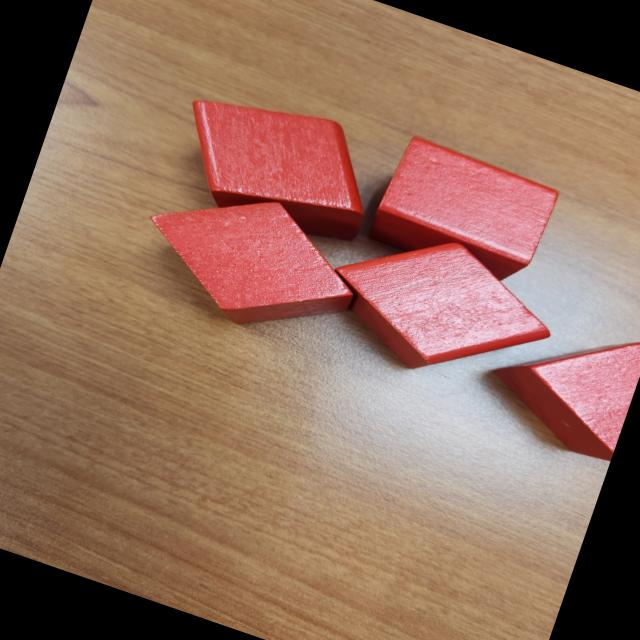red: (311, 206, 572, 411), (120, 162, 380, 360), (159, 72, 392, 253), (360, 127, 563, 290), (482, 292, 640, 468)
